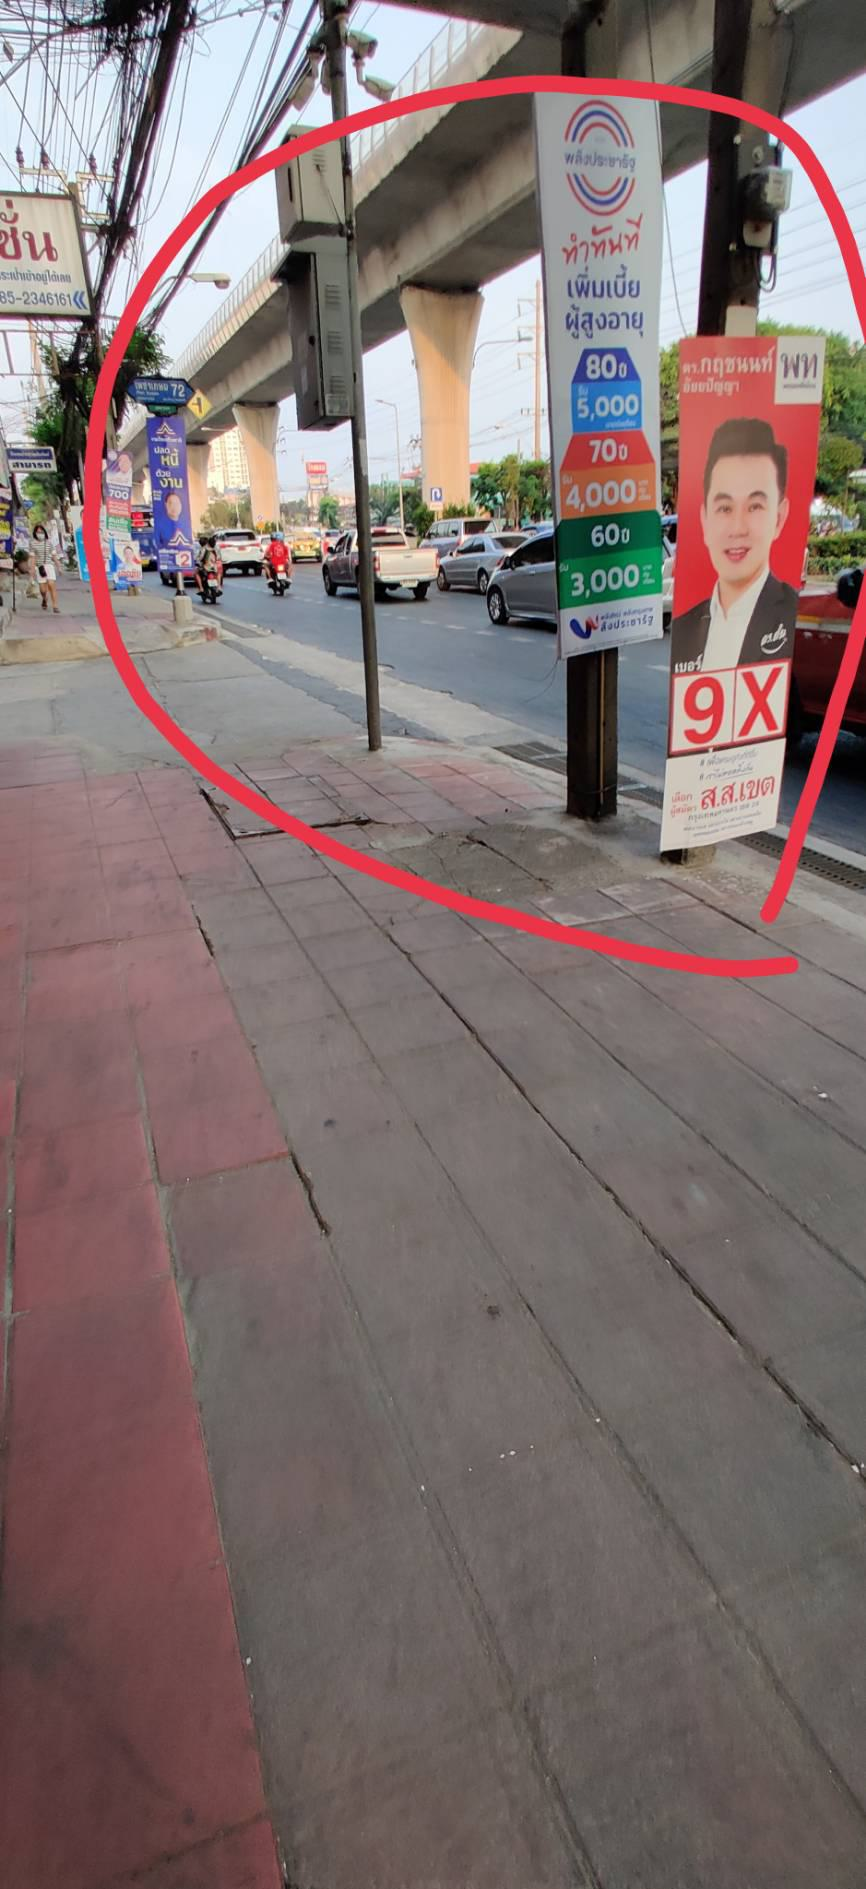Banner: (528, 77, 672, 651), (661, 340, 811, 857)
